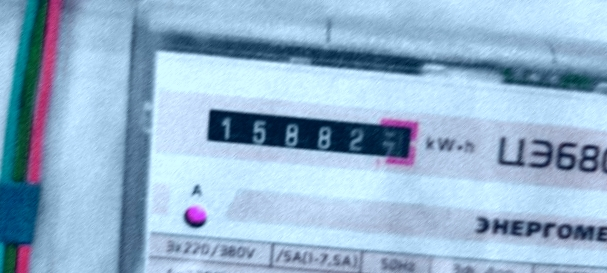1: (217, 114, 233, 140)
2: (347, 125, 364, 151)
5: (249, 116, 267, 144)
7: (379, 137, 395, 157)
8: (282, 121, 300, 148), (315, 123, 332, 149)
screen: (189, 91, 428, 177)
